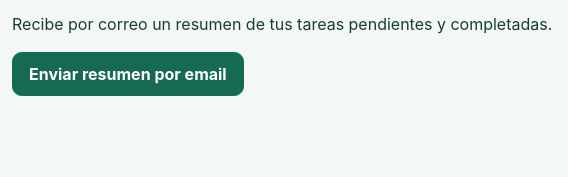
it: EmailSummaryButton › deshabilita el botón durante el envío y muestra el éxito
Later steps or results of the test are not shown.
Click the button "Enviar resumen por email".
click(128, 74)  # box 12,52 -> 244,96
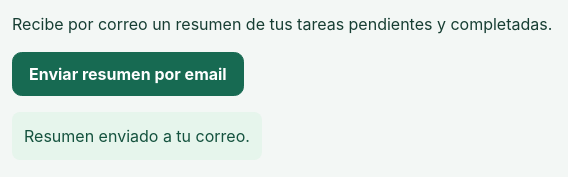
Now the message reads "Resumen enviado a tu correo.", box 24,126 -> 250,146
